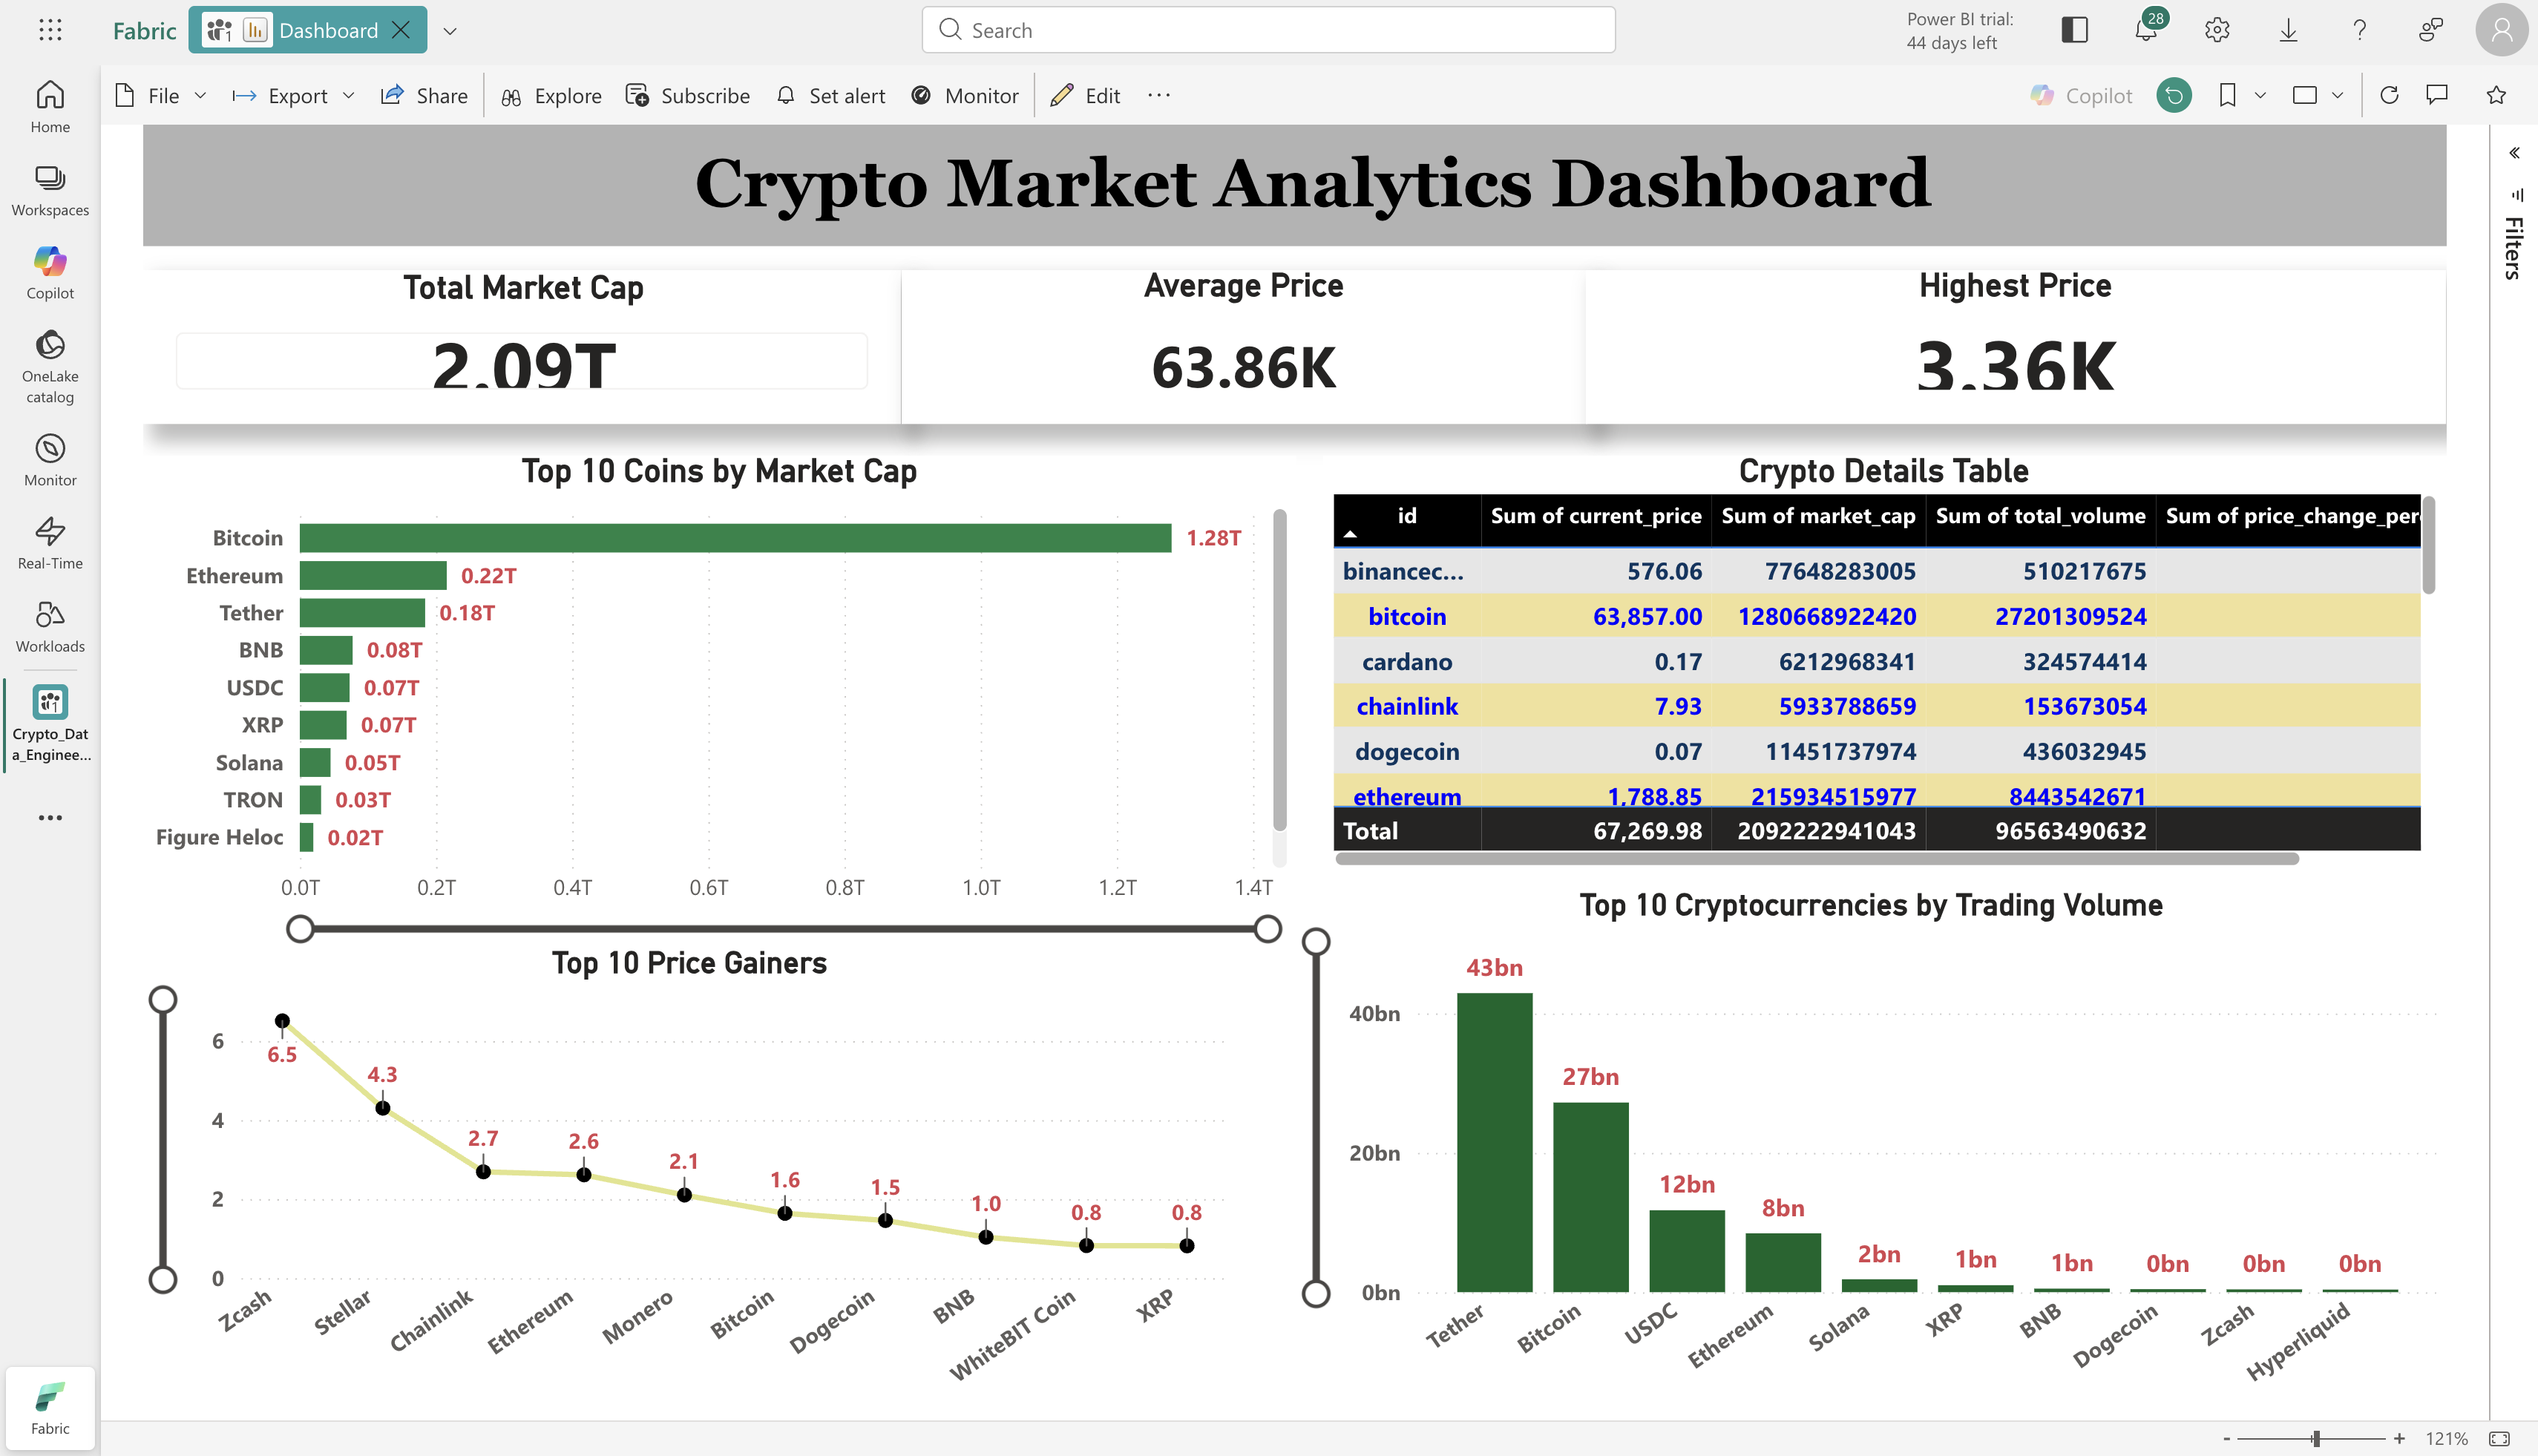

The page's visual inventory and layout, read from the dashboard file:
{"tool":"powerbi","page":{"name":"Page 1","canvas":[1280,720],"ordinal":0},"visuals":[{"type":"cardVisual","title":"Total Market Cap ","fields":{"Data":["Sum(gold_market_summary.total_market_cap)"]},"box":[0,80.7,421.1,85.4],"z":0},{"type":"cardVisual","title":"Average Price ","fields":{"Data":["Sum(gold_market_summary.highest_price)"]},"box":[421.1,80.7,380.8,85.4],"z":1},{"type":"cardVisual","title":"Highest Price","fields":{"Data":["Sum(gold_market_summary.average_price)"]},"box":[801.9,80.7,478.1,85.4],"z":2},{"type":"clusteredBarChart","title":" Top 10 Coins by Market Cap","fields":{"Category":["gold_top_marketcap.name"],"Y":["Sum(gold_top_marketcap.market_cap)"]},"box":[0,183.9,640.6,274],"z":3},{"type":"clusteredColumnChart","title":"Top 10 Cryptocurrencies by Trading Volume","fields":{"Category":["gold_top_volume.name"],"Y":["Sum(gold_top_volume.total_volume)"]},"box":[640.6,425.9,639.4,294.2],"z":4},{"type":"lineChart","title":"Top 10 Price Gainers","fields":{"Category":["gold_price_gainers.name"],"Y":["Sum(gold_price_gainers.price_change_percentage_24h)"]},"box":[0,457.9,607.4,262.2],"z":5},{"type":"tableEx","title":"Crypto Details Table","fields":{"Values":["fact_crypto_market.id","Sum(fact_crypto_market.current_price)","Sum(fact_crypto_market.market_cap)","Sum(fact_crypto_market.total_volume)","Sum(fact_crypto_market.price_change_percentage_24h)"]},"box":[656,183.9,624,233.7],"z":6},{"type":"textbox","box":[0,0,1280,67.6],"z":7}]}

Visuals, with their boxes on the page's 1280x720 design canvas (x1, y1, x2, y2). These are canvas units, not pixel positions in the 2538x1456 screenshot, which may show the page scaled, cropped or inside an application window:
"Total Market Cap " cardVisual: crop(0, 81, 421, 166)
"Average Price " cardVisual: crop(421, 81, 802, 166)
"Highest Price" cardVisual: crop(802, 81, 1280, 166)
" Top 10 Coins by Market Cap" clusteredBarChart: crop(0, 184, 641, 458)
"Top 10 Cryptocurrencies by Trading Volume" clusteredColumnChart: crop(641, 426, 1280, 720)
"Top 10 Price Gainers" lineChart: crop(0, 458, 607, 720)
"Crypto Details Table" tableEx: crop(656, 184, 1280, 418)
textbox: crop(0, 0, 1280, 68)
